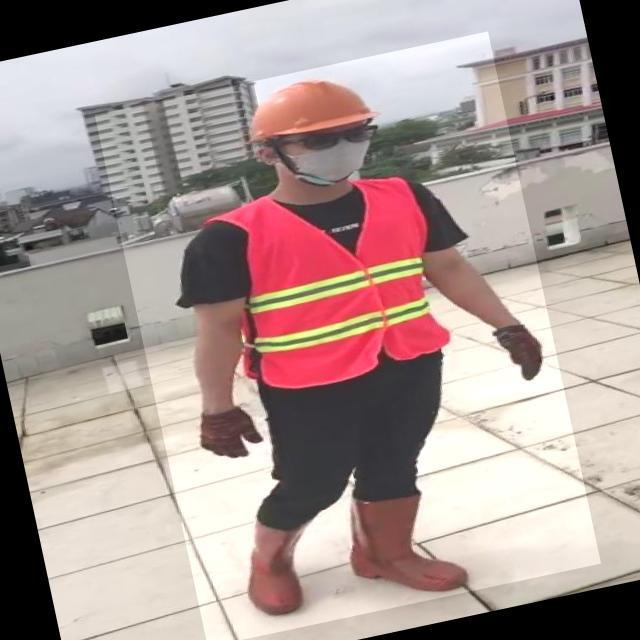Gloves: (193, 403, 266, 463), (489, 319, 548, 387)
Helmet: (235, 63, 383, 151)
Human: (95, 30, 601, 640)
Safety Boot: (340, 476, 471, 609), (232, 510, 321, 620)
Safety Vest: (219, 170, 452, 397)
